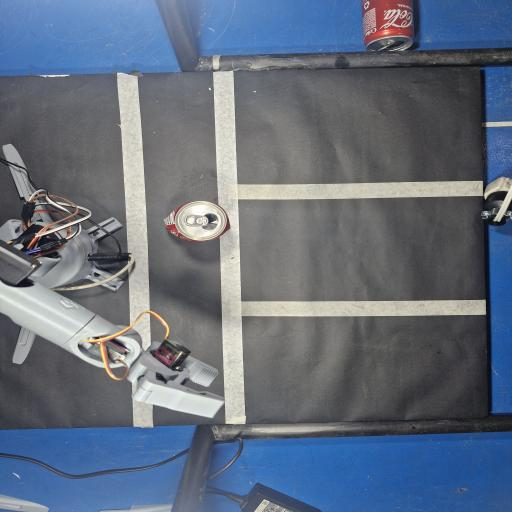lata_defectuoso: (164, 201, 230, 241)
